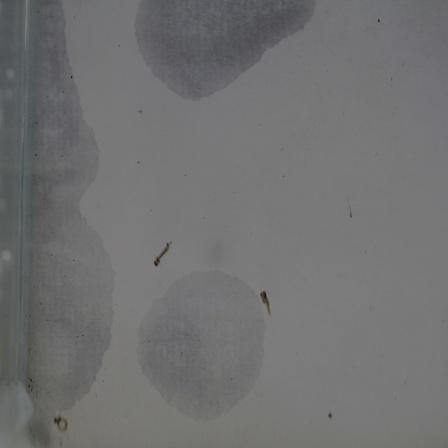Jentik-Nyamuk: (146, 238, 175, 270), (257, 286, 277, 318)
